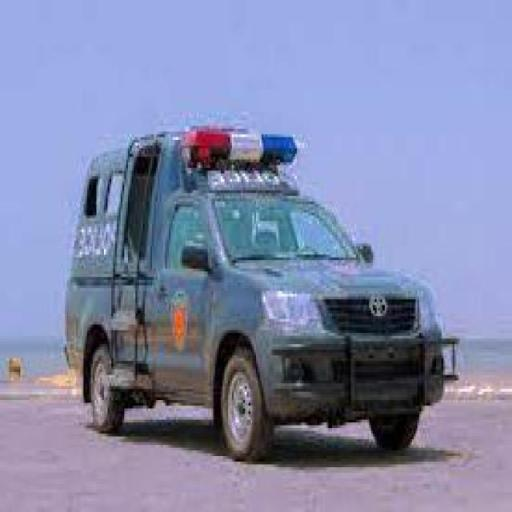Ambulance: (60, 126, 462, 464)
